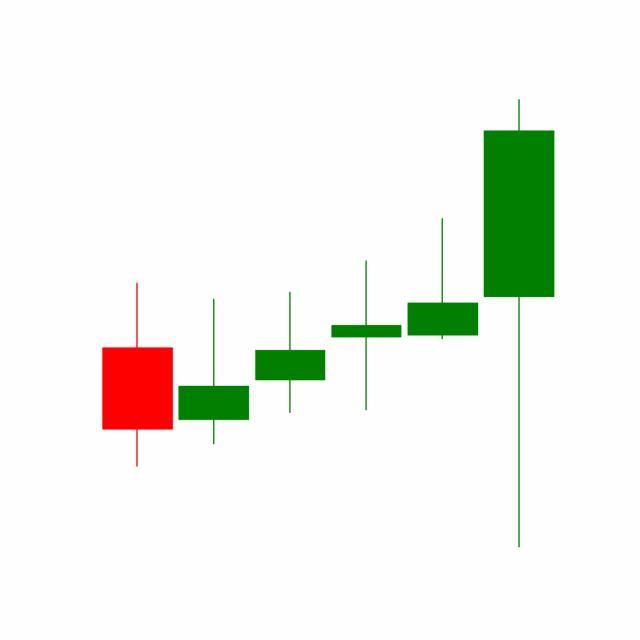Up-Down Gap Side-by-side White Lines: (252, 215, 482, 416)
